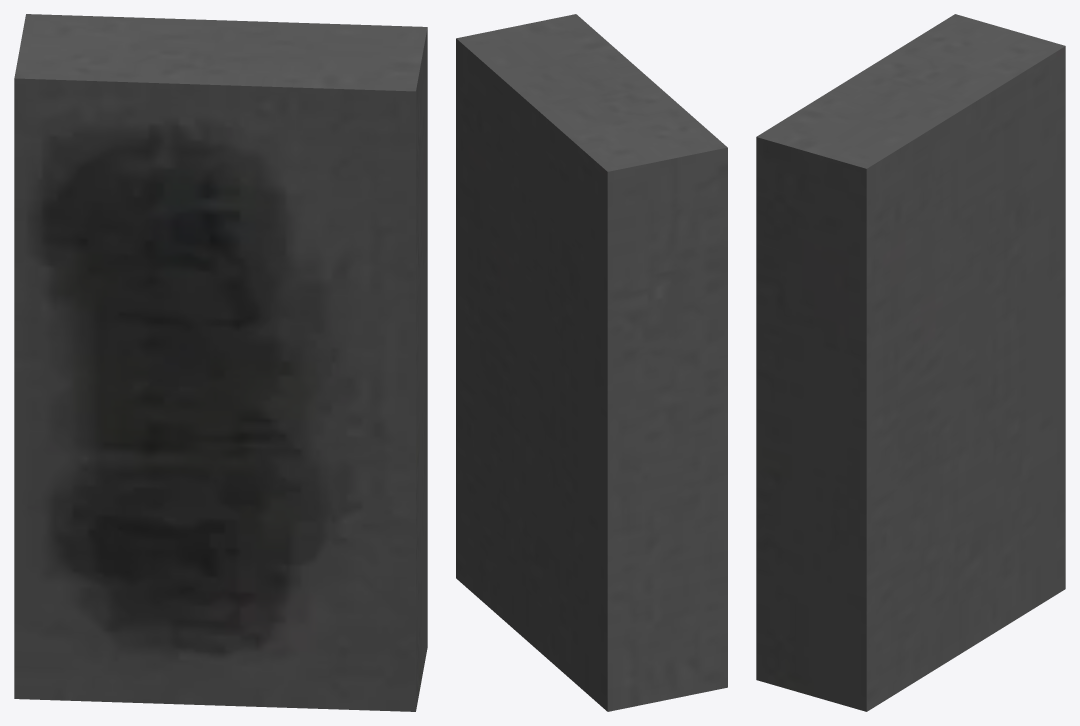
The model's file is support_arm__arm_head.glb.
3 renders of one model, left to right at view 1: azimuth 30°, elevation 25°; view 2: azimuth 150°, elevation 25°; view 3: azimuth 270°, elevation 25°, orthographic. The views are drawn at different scales.
Parts seen in each view (by area): view 1: world; view 2: world; view 3: world.
Part boxes in pixels (left/top/right/bottom): world: left=14, top=14, right=427, bottom=711; world: left=456, top=14, right=727, bottom=711; world: left=756, top=14, right=1065, bottom=711.
Size of the model in its own units: 0.104 by 0.17 by 0.0878.
Materials: 1 (1 with a texture image).
